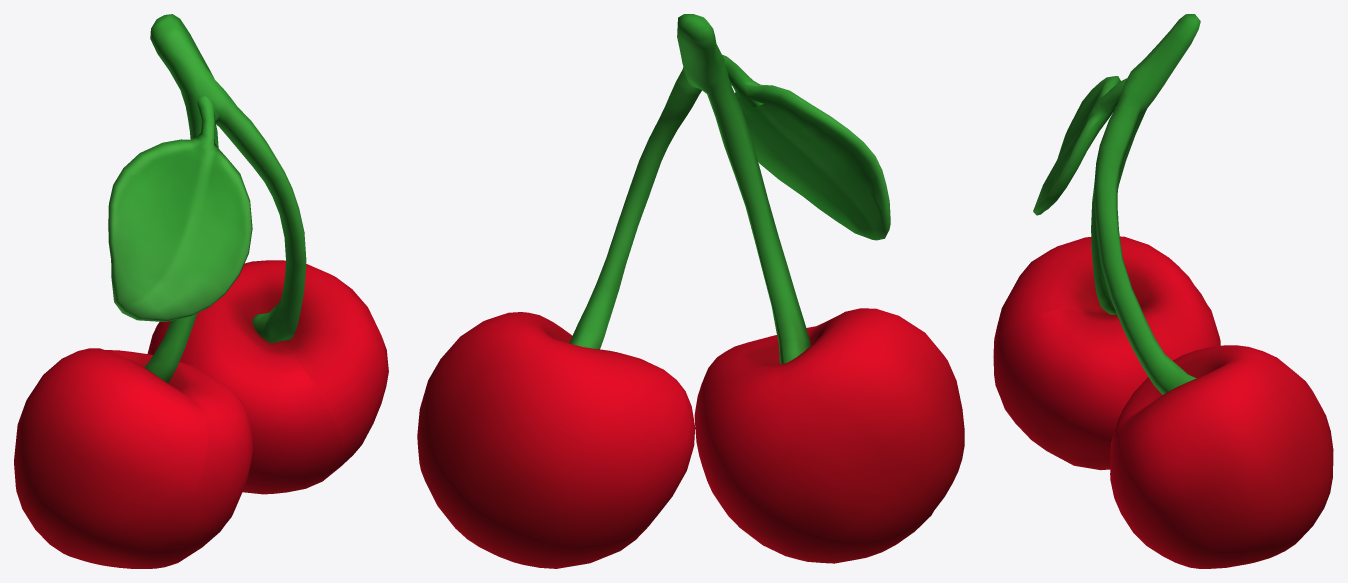
Rendered from YingTao.FBX.
3 views of the same model, side by side, from view 1: azimuth 30°, elevation 25°; view 2: azimuth 150°, elevation 25°; view 3: azimuth 270°, elevation 25° (orthographic). The views are drawn at different scales.
Parts seen in each view (by area): view 1: YingTao; view 2: YingTao; view 3: YingTao.
Part boxes in pixels (x1,y1,x2,y2): YingTao: [14, 14, 388, 568]; YingTao: [417, 14, 964, 568]; YingTao: [993, 14, 1333, 568].
Bounding box in the file's own units: 85.65 × 102 × 63.92.
Materials: 1 (1 with a texture image).
